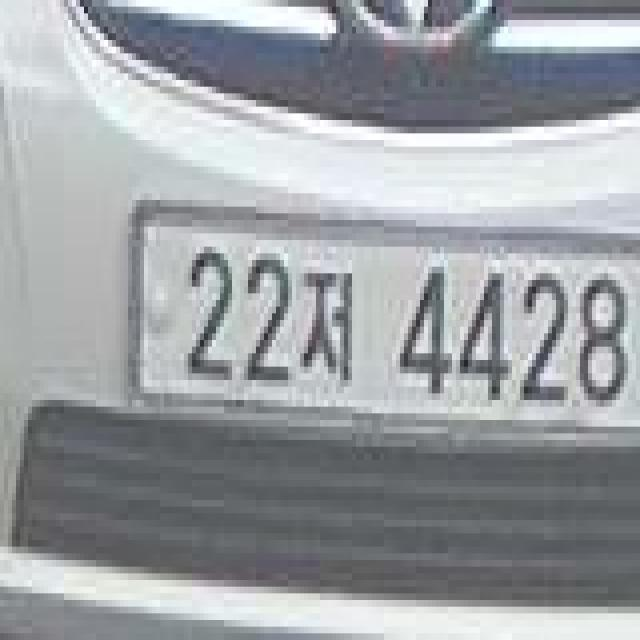2: (182, 244, 239, 385), (521, 265, 574, 409), (243, 247, 293, 389)
4: (390, 252, 456, 395), (463, 260, 516, 405)
8: (578, 265, 633, 414)
jeo: (301, 254, 363, 394)
license_plate: (141, 224, 636, 423)
